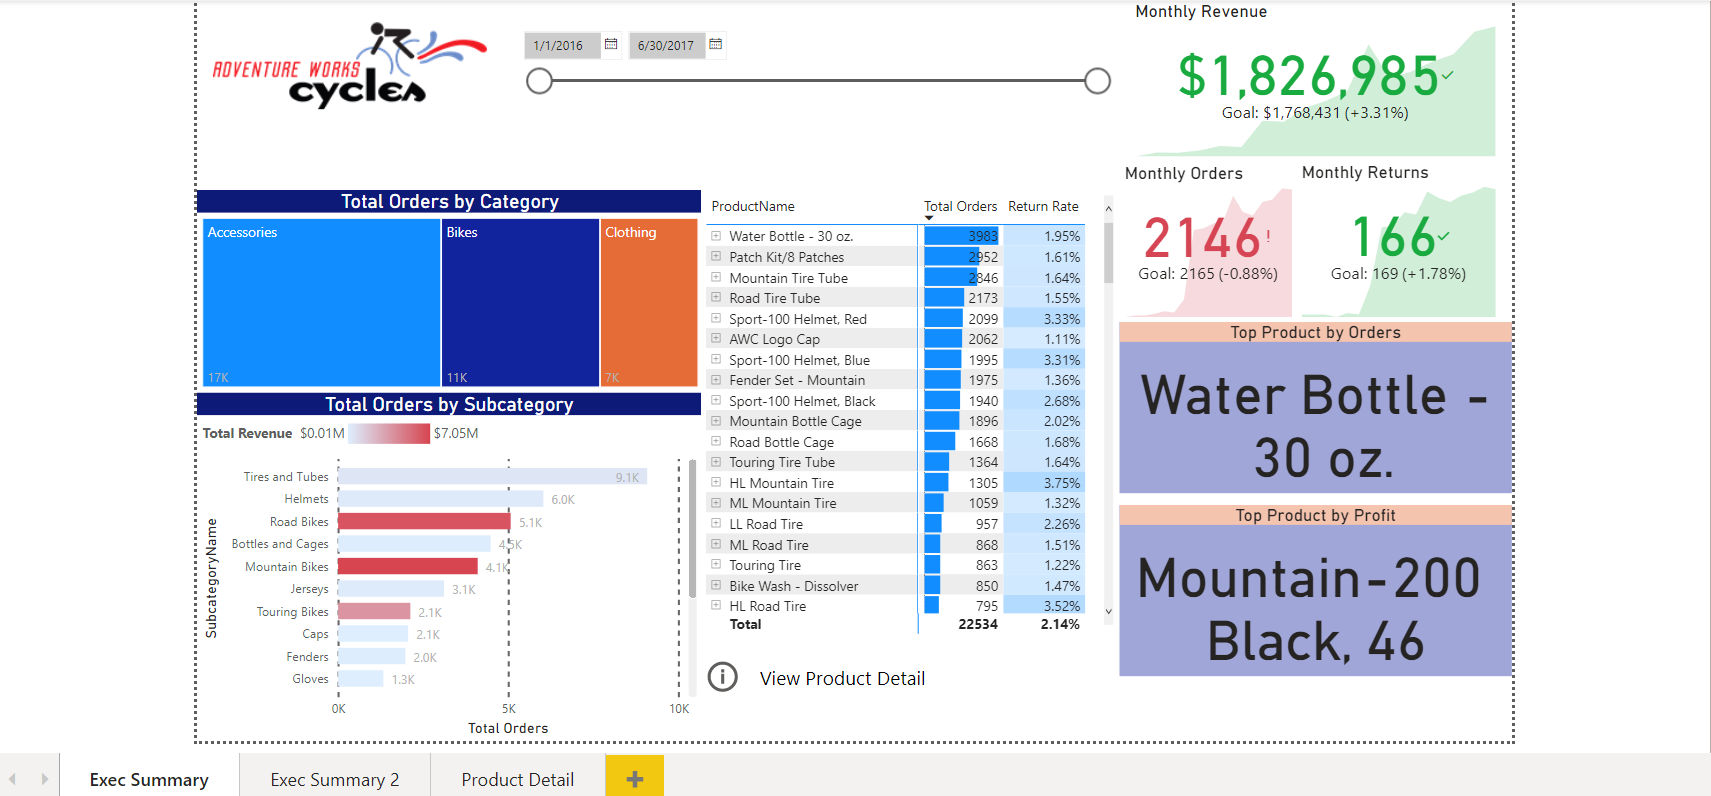

The dashboard page shown, as its layout file describes it:
{"tool":"powerbi","page":{"name":"Exec Summary","canvas":[1280,720],"ordinal":0},"visuals":[{"type":"image","box":[10.6,0,280.6,125.9],"z":0},{"type":"treemap","title":"Total Orders by Category","fields":{"Group":["AW_Product_Categories_Lookup.CategoryName","AW_Product_Subcategories_Lookup.SubcategoryName"],"Values":["AW_Sales.Total Orders"]},"box":[0,183.5,492.9,197.2],"z":1000},{"type":"barChart","title":"Total Orders by Subcategory","fields":{"Y":["AW_Sales.Total Orders"],"Category":["AW_Product_Subcategories_Lookup.SubcategoryName"]},"box":[0,380.7,491.4,339.7],"z":2000},{"type":"pivotTable","fields":{"Values":["AW_Sales.Total Orders","AW_Returns.Return Rate"],"Rows":["AW_Product_Lookup.ProductName","AW_Product_Categories_Lookup.CategoryName","AW_Product_Subcategories_Lookup.SubcategoryName"]},"box":[491.4,183.5,406.4,436.8],"z":3000},{"type":"slicer","fields":{"Values":["AW_Calendar_Lookup.Date"]},"box":[304.8,1.5,593,156.2],"z":4000},{"type":"kpi","title":"Monthly Revenue","fields":{"Indicator":["AW_Sales.Total Revenue"],"TrendLine":["AW_Calendar_Lookup.Start of Month"],"Goal":["AW_Sales.Prev Month Revenue"]},"box":[908.4,0,360.9,156.2],"z":5000},{"type":"kpi","title":"Monthly Orders","fields":{"TrendLine":["AW_Calendar_Lookup.Start of Month"],"Goal":["AW_Sales.Prev Month Orders"],"Indicator":["AW_Sales.Total Orders"]},"box":[897.8,157.7,172.9,154.7],"z":6000},{"type":"kpi","title":"Monthly Returns","fields":{"TrendLine":["AW_Calendar_Lookup.Start of Month"],"Goal":["AW_Sales.Prev Month Return"],"Indicator":["AW_Returns.Total Returns"]},"box":[1070.7,156.2,198.7,156.2],"z":7000},{"type":"card","title":"Top Product by Orders","fields":{"Values":["Min(AW_Product_Lookup.ProductName)"]},"box":[897.8,312.4,382.2,166.8],"z":8000},{"type":"card","title":"Top Product by Profit","fields":{"Values":["Min(AW_Product_Lookup.ProductName)"]},"box":[897.8,491.4,382.2,166.8],"z":9000},{"type":"actionButton","box":[492.9,638.5,221.4,39.4],"z":9001}]}

Visuals, with their boxes on the page's 1280x720 design canvas (x1, y1, x2, y2). These are canvas units, not pixel positions in the 1711x796 screenshot, which may show the page scaled, cropped or inside an application window:
image: rect(11, 0, 291, 126)
"Total Orders by Category" treemap: rect(0, 184, 493, 381)
"Total Orders by Subcategory" barChart: rect(0, 381, 491, 720)
pivotTable - AW_Sales.Total Orders x AW_Returns.Return Rate: rect(491, 184, 898, 620)
slicer - AW_Calendar_Lookup.Date: rect(305, 2, 898, 158)
"Monthly Revenue" kpi: rect(908, 0, 1269, 156)
"Monthly Orders" kpi: rect(898, 158, 1071, 312)
"Monthly Returns" kpi: rect(1071, 156, 1269, 312)
"Top Product by Orders" card: rect(898, 312, 1280, 479)
"Top Product by Profit" card: rect(898, 491, 1280, 658)
actionButton: rect(493, 638, 714, 678)
